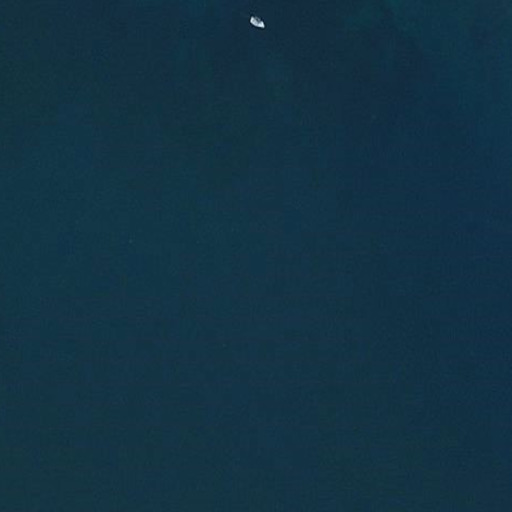ship: (246, 12, 265, 30)
